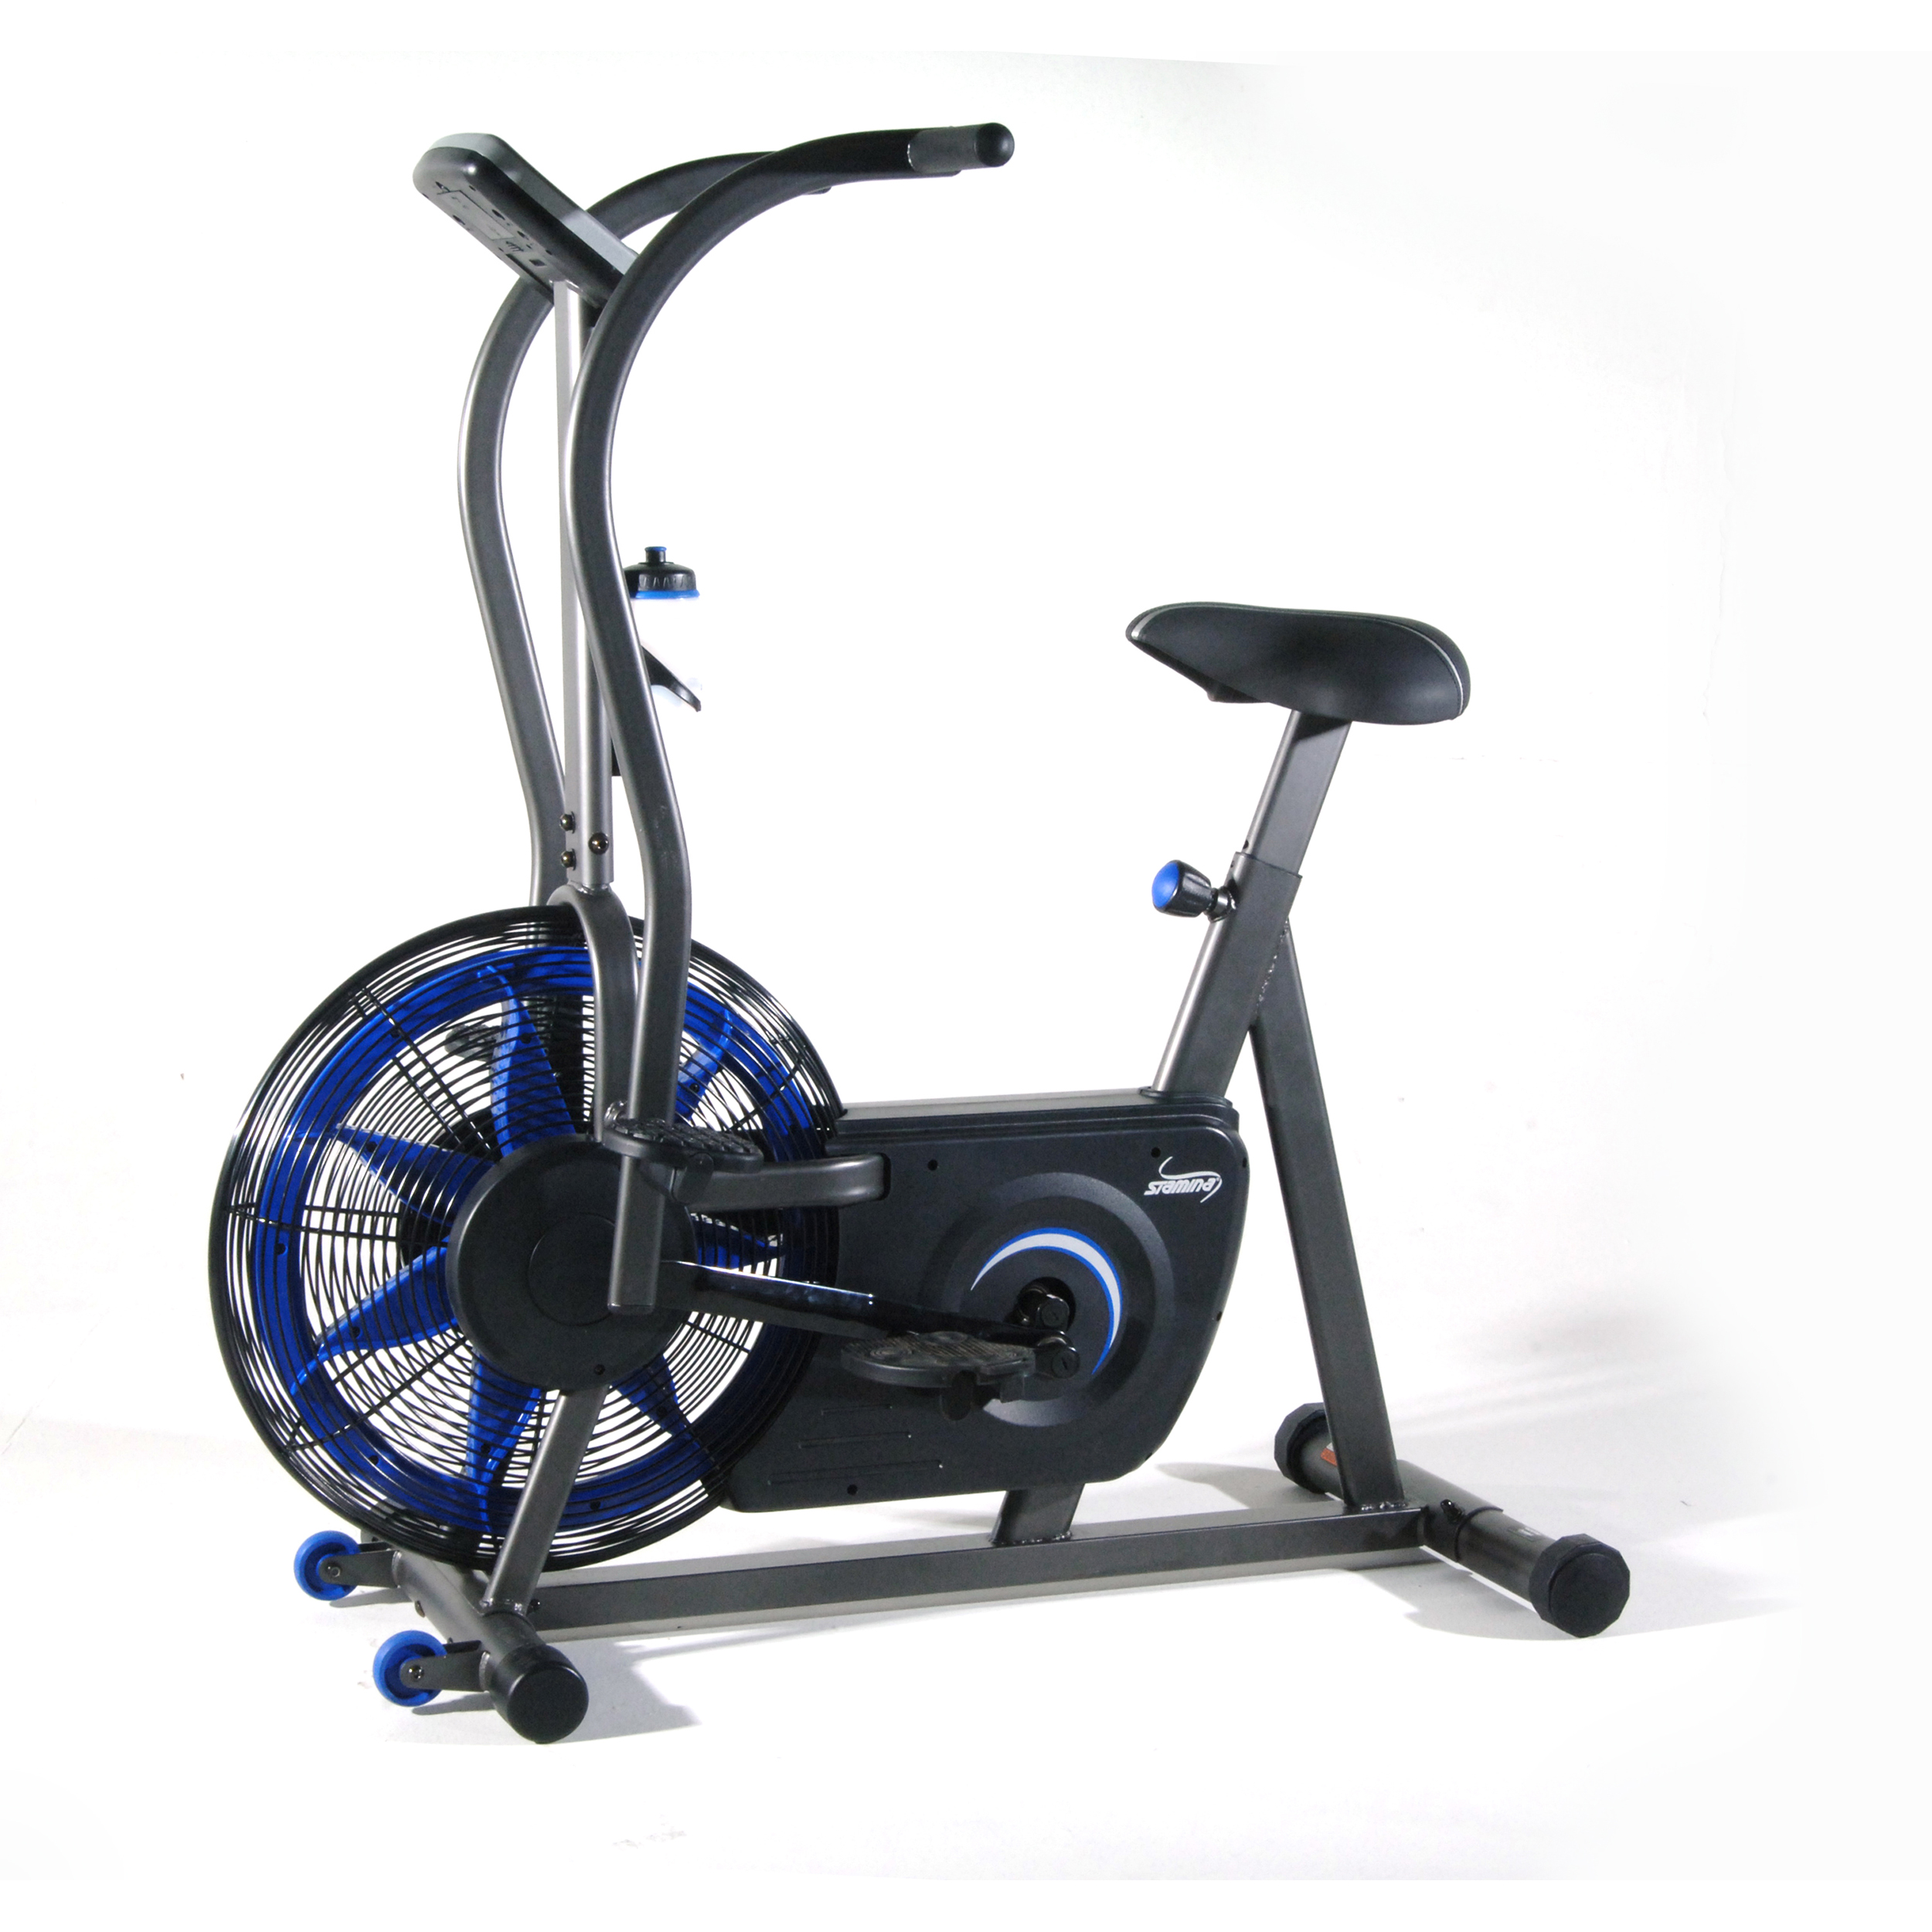gym_bike: (159, 108, 1661, 1801)
